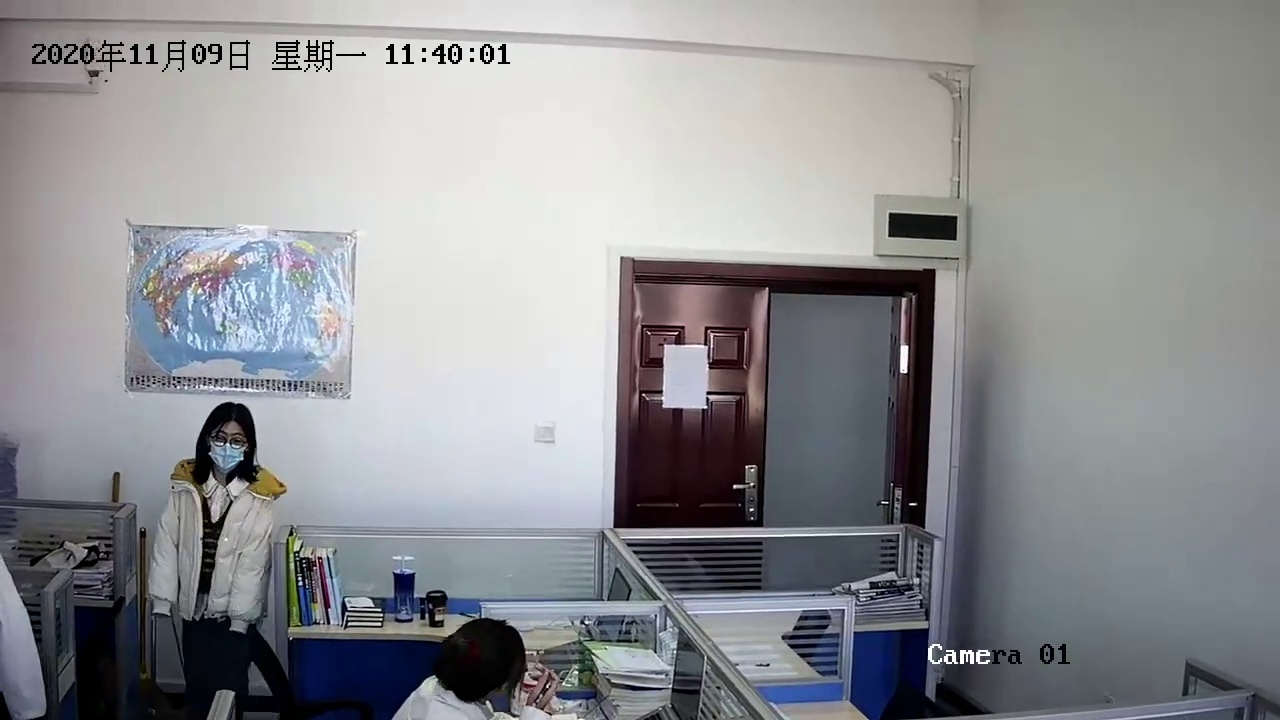mask: (199, 413, 258, 475)
